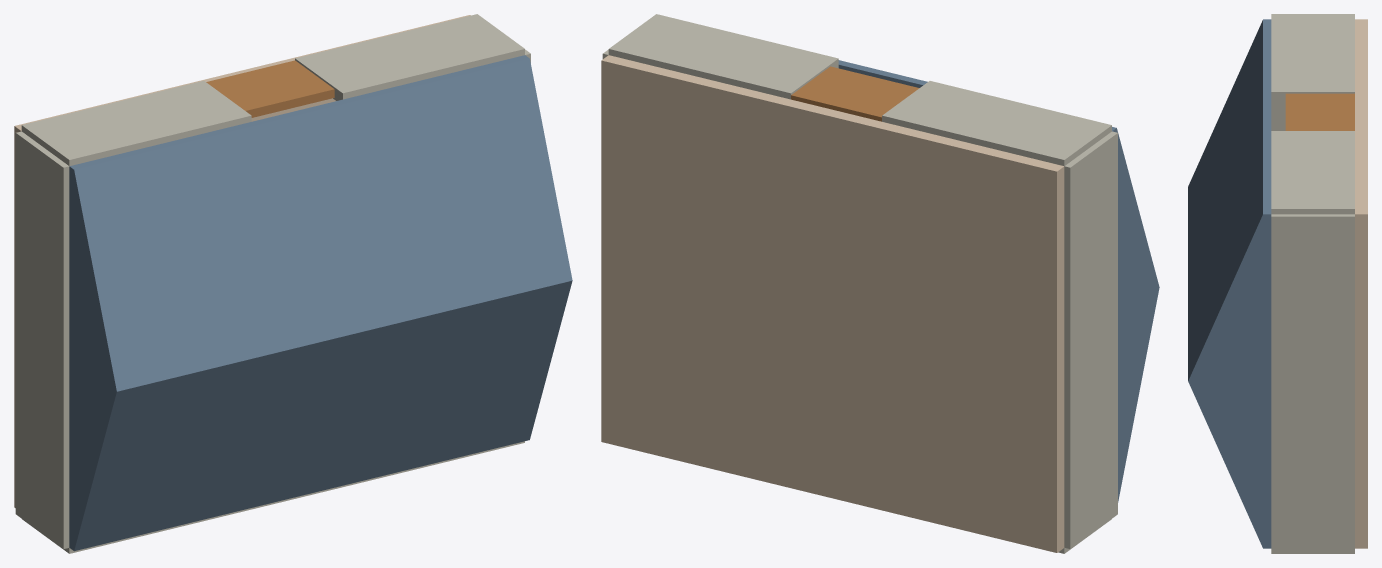
The model's file is guest-cabin.obj.
3 views of the same model, side by side, from view 1: azimuth 30°, elevation 25°; view 2: azimuth 150°, elevation 25°; view 3: azimuth 270°, elevation 25° (orthographic). The views are drawn at different scales.
Parts seen in each view (by area): view 1: roof_tile0-2, roof_tile0-3, roof_tile1-3, roof_tile3-3, roof_tile4-3, roof_tile2-3, roof_tile4-2, roof_tile2-2, roof_tile1-2, roof_tile3-2, roof_tile0-1, roof_tile0-0 (+17 smaller); view 2: foundation_tile0-3, foundation_tile0-1, foundation_tile0-2, foundation_tile0-0, foundation_tile1-3, foundation_tile4-3, foundation_tile2-3, foundation_tile3-3, foundation_tile2-0, foundation_tile2-2, foundation_tile3-2, foundation_tile4-1 (+22 smaller); view 3: walls_edge12, walls_edge9, walls_edge10, walls_edge11, roof_tile4-2, roof_tile4-1, roof_tile4-3, walls_edge16, walls_edge14, walls_edge13, walls_edge15, door_whole (+19 smaller).
Boxes of the visible parts, left/top/right/bottom form: roof_tile0-2: left=69, top=258, right=207, bottom=391; roof_tile0-3: left=69, top=144, right=186, bottom=280; roof_tile1-3: left=161, top=122, right=277, bottom=258; roof_tile3-3: left=343, top=77, right=459, bottom=213; roof_tile4-3: left=434, top=55, right=550, bottom=191; roof_tile2-3: left=252, top=99, right=368, bottom=235; roof_tile4-2: left=460, top=169, right=572, bottom=302; roof_tile2-2: left=278, top=214, right=390, bottom=347; roof_tile1-2: left=187, top=236, right=298, bottom=369; roof_tile3-2: left=369, top=192, right=481, bottom=324; roof_tile0-1: left=69, top=357, right=207, bottom=471; roof_tile0-0: left=69, top=449, right=186, bottom=551; foundation_tile0-3: left=966, top=144, right=1064, bottom=266; foundation_tile0-1: left=966, top=340, right=1064, bottom=457; foundation_tile0-2: left=966, top=245, right=1064, bottom=362; foundation_tile0-0: left=966, top=435, right=1064, bottom=552; foundation_tile1-3: left=874, top=122, right=972, bottom=244; foundation_tile4-3: left=601, top=55, right=699, bottom=177; foundation_tile2-3: left=783, top=99, right=881, bottom=222; foundation_tile3-3: left=692, top=77, right=790, bottom=200; foundation_tile2-0: left=783, top=391, right=874, bottom=508; foundation_tile2-2: left=783, top=200, right=874, bottom=317; foundation_tile3-2: left=692, top=178, right=783, bottom=295; foundation_tile4-1: left=601, top=251, right=692, bottom=368; walls_edge12: left=1271, top=214, right=1354, bottom=300; walls_edge9: left=1271, top=467, right=1354, bottom=550; walls_edge10: left=1271, top=384, right=1354, bottom=467; walls_edge11: left=1271, top=300, right=1354, bottom=383; roof_tile4-2: left=1188, top=259, right=1271, bottom=381; roof_tile4-1: left=1188, top=381, right=1271, bottom=464; roof_tile4-3: left=1225, top=175, right=1271, bottom=297; walls_edge16: left=1271, top=170, right=1354, bottom=214; walls_edge14: left=1271, top=53, right=1354, bottom=102; walls_edge13: left=1271, top=14, right=1354, bottom=52; walls_edge15: left=1271, top=131, right=1354, bottom=169; door_whole: left=1285, top=93, right=1354, bottom=130.
Bounding box in the file's own units: 5.13 × 4.13 × 1.95.
